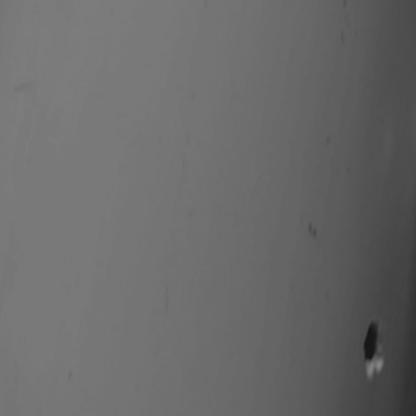kongdong: (361, 308, 393, 383)
